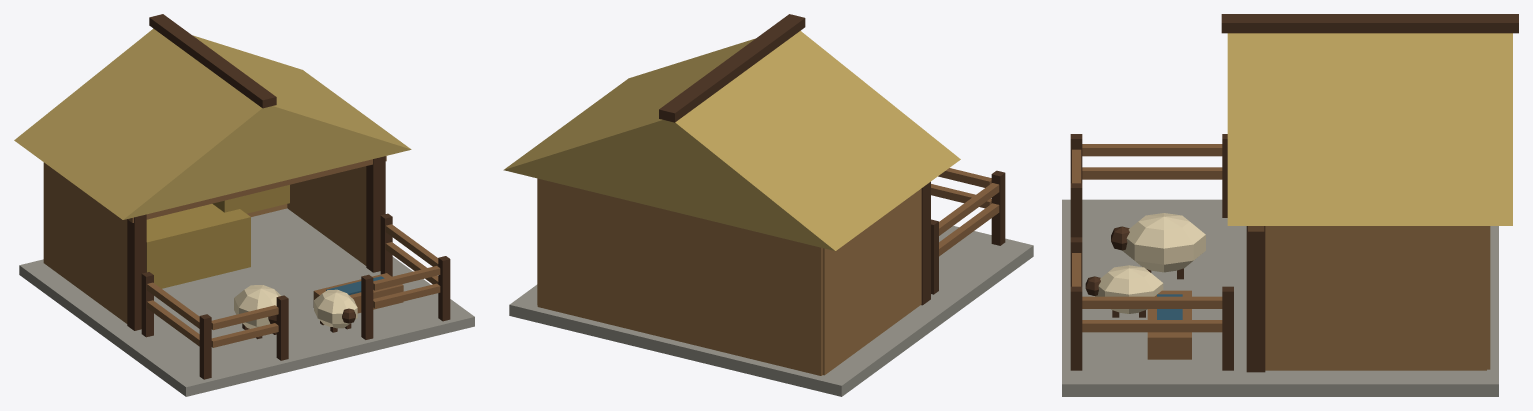
Rendered from pasture.glb.
3 views of the same model, side by side, from view 1: azimuth 30°, elevation 25°; view 2: azimuth 150°, elevation 25°; view 3: azimuth 270°, elevation 25° (orthographic). The views are drawn at different scales.
Parts seen in each view (by area): view 1: pasture; view 2: pasture; view 3: pasture.
Part boxes in pixels (x1,y1,x2,y2): pasture: (14,14,474,396); pasture: (503,14,1033,396); pasture: (1062,14,1518,396).
Size of the model in its own units: 3.75 by 2.71 by 3.92.
